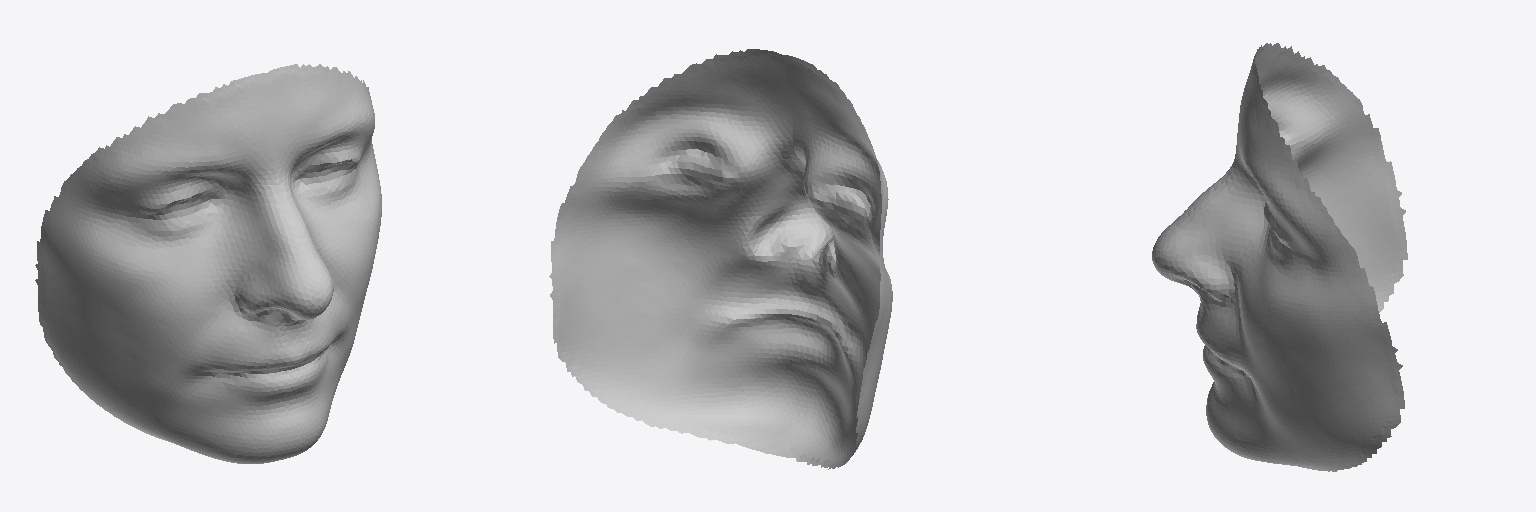
The model's file is SIMPOP_42.obj.
3 renders of one model, left to right at view 1: azimuth 30°, elevation 25°; view 2: azimuth 150°, elevation 25°; view 3: azimuth 270°, elevation 25°, orthographic.
Visible parts, largest first — view 1: SIMPOP_42; view 2: SIMPOP_42; view 3: SIMPOP_42.
Part boxes in pixels (bbox=[...]): SIMPOP_42: bbox=[35, 64, 381, 463]; SIMPOP_42: bbox=[549, 49, 892, 469]; SIMPOP_42: bbox=[1152, 43, 1407, 471].
Bounding box in the file's own units: 124 × 141 × 84.31.